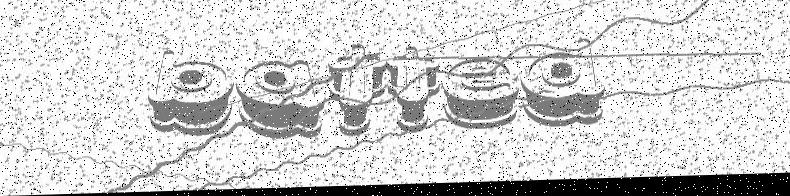a: (236, 59, 327, 143)
b: (147, 49, 235, 139)
d: (520, 41, 605, 132)
e: (442, 60, 519, 134)
t: (327, 44, 387, 139), (386, 46, 441, 137)
